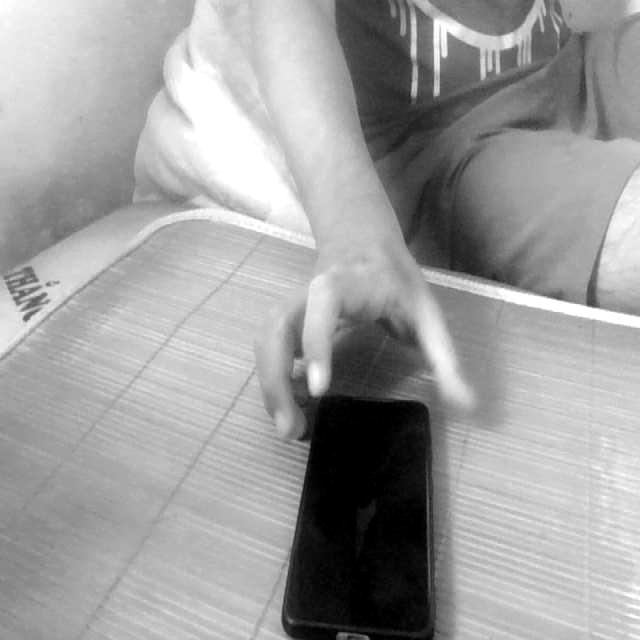phone: (269, 360, 458, 640)
